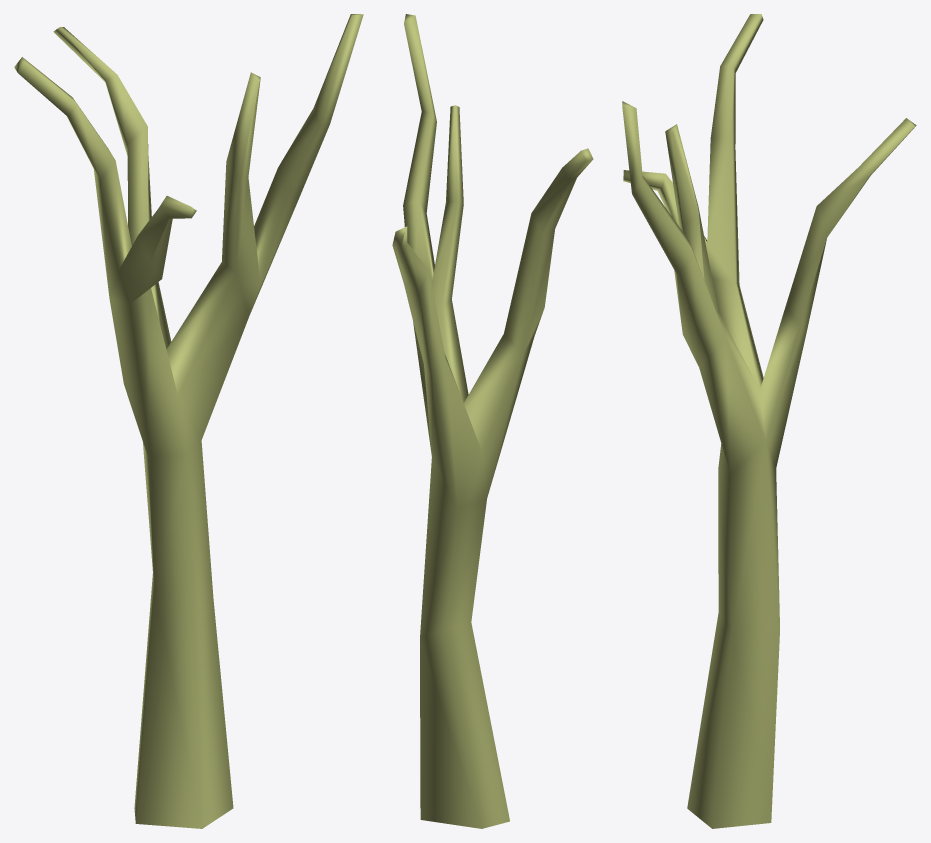
Rendered from deadtree1.glb.
The picture shows the model from 3 angles, left to right: view 1: azimuth 30°, elevation 25°; view 2: azimuth 150°, elevation 25°; view 3: azimuth 270°, elevation 25°; orthographic projection. The views are drawn at different scales.
Visible parts, largest first — view 1: Dead_Tree2; view 2: Dead_Tree2; view 3: Dead_Tree2.
Part boxes in pixels (left/top/right/bottom): Dead_Tree2: left=14, top=14, right=363, bottom=828; Dead_Tree2: left=392, top=14, right=593, bottom=828; Dead_Tree2: left=622, top=14, right=916, bottom=828.
Size of the model in its own units: 0.7219 by 2.02 by 0.7084.
